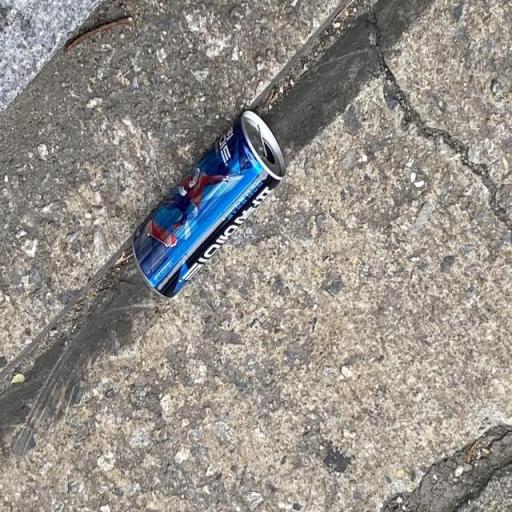metal: (118, 106, 309, 326)
